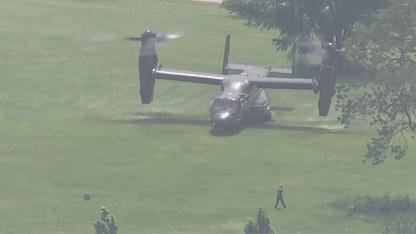Tornado: (90, 28, 372, 134)
